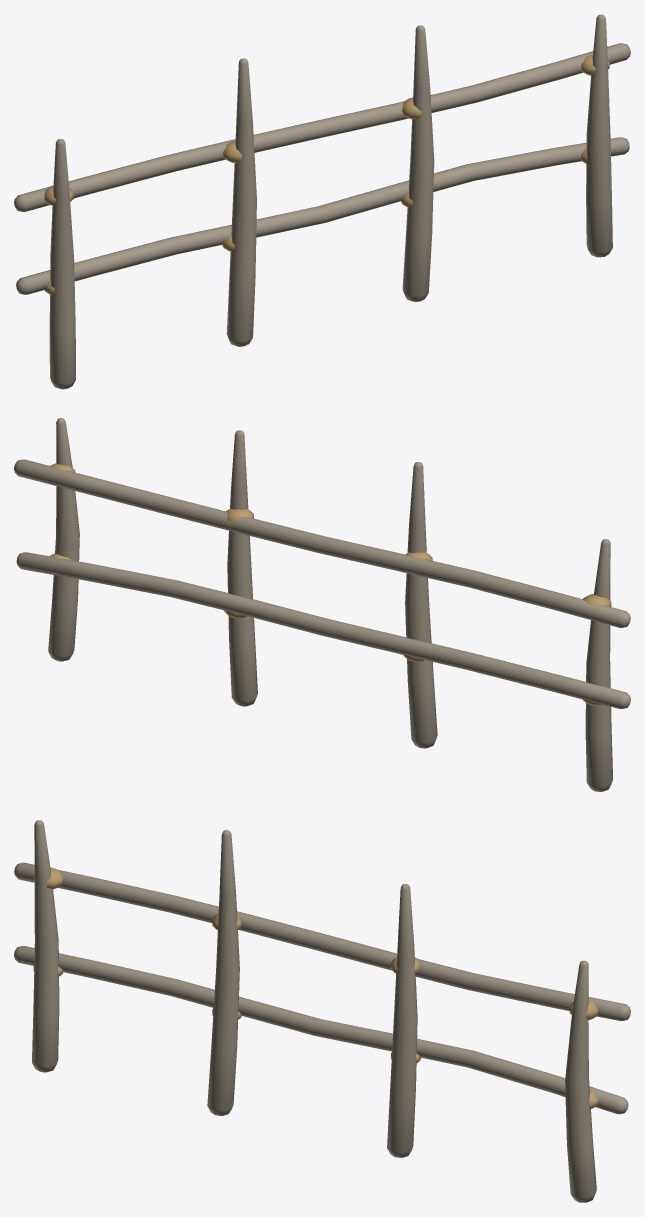
Rendered from sh_twig_fence.fbx.
3 renders of one model, top to bottom at view 1: azimuth 30°, elevation 25°; view 2: azimuth 150°, elevation 25°; view 3: azimuth 330°, elevation 25°, orthographic.
Visible parts, largest first — view 1: SH_Twig_Fence; view 2: SH_Twig_Fence; view 3: SH_Twig_Fence.
Part boxes in pixels (x1,y1,x2,y2): SH_Twig_Fence: [14, 14, 630, 389]; SH_Twig_Fence: [14, 418, 630, 791]; SH_Twig_Fence: [14, 820, 630, 1202].
Size of the model in its own units: 57.46 by 25.54 by 3.53.
